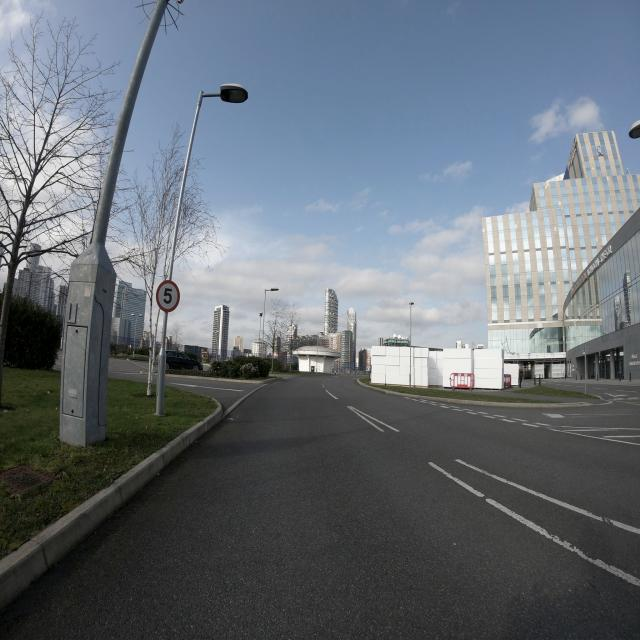car: (162, 349, 202, 374)
